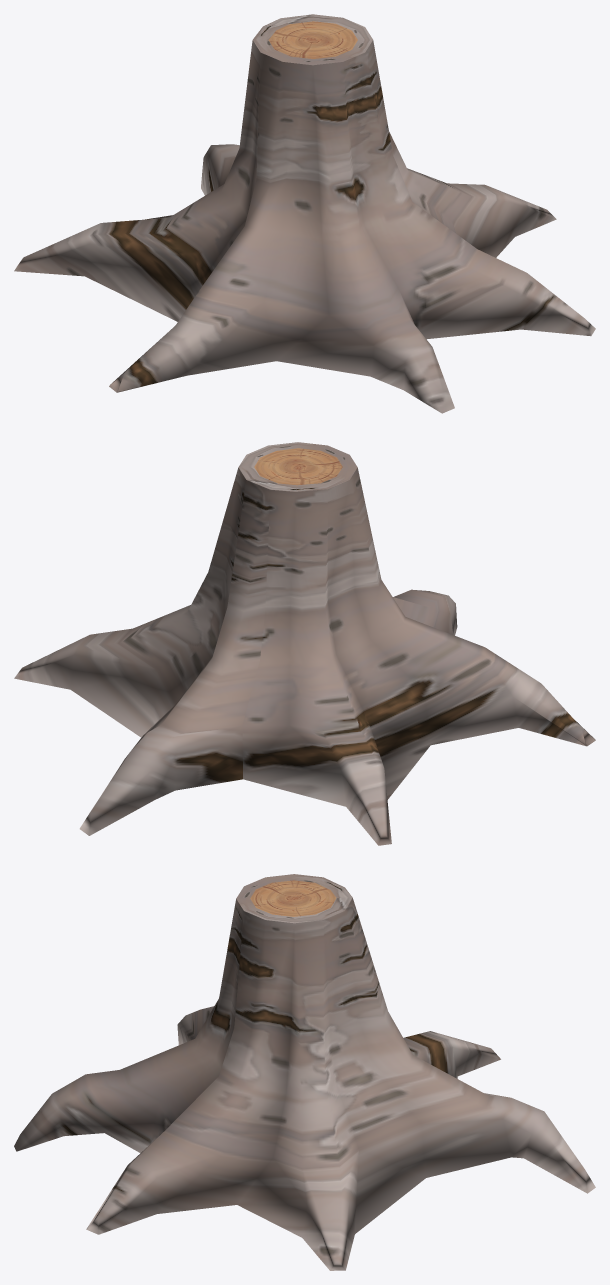
File: obj_harvests_trees_birch02_p00.fbx
3 renders of one model, top to bottom at view 1: azimuth 30°, elevation 25°; view 2: azimuth 150°, elevation 25°; view 3: azimuth 270°, elevation 25°, orthographic. The views are drawn at different scales.
Visible parts, largest first — view 1: chunk00; view 2: chunk00; view 3: chunk00.
Part boxes in pixels (x1,y1,x2,y2): chunk00: [14, 14, 595, 413]; chunk00: [14, 442, 595, 845]; chunk00: [14, 874, 595, 1270].
Size of the model in its own units: 7.62 by 4.37 by 7.78.
